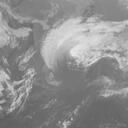cyclone: (42, 22, 100, 71)
